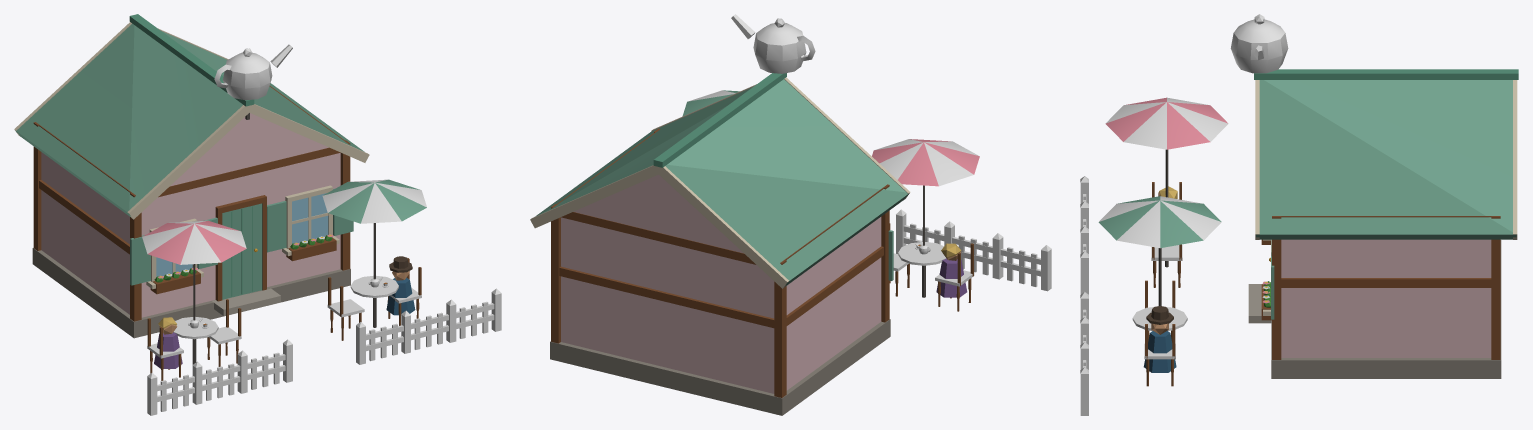
The model's file is tea_room.glb.
3 renders of one model, left to right at view 1: azimuth 30°, elevation 25°; view 2: azimuth 150°, elevation 25°; view 3: azimuth 270°, elevation 25°, orthographic. The views are drawn at different scales.
Parts seen in each view (by area): view 1: town-tea_room; view 2: town-tea_room; view 3: town-tea_room.
Part boxes in pixels (x1,y1,x2,y2): town-tea_room: [14, 14, 501, 415]; town-tea_room: [530, 14, 1051, 415]; town-tea_room: [1080, 14, 1518, 415].
Size of the model in its own units: 6.73 by 4.89 by 6.39.
